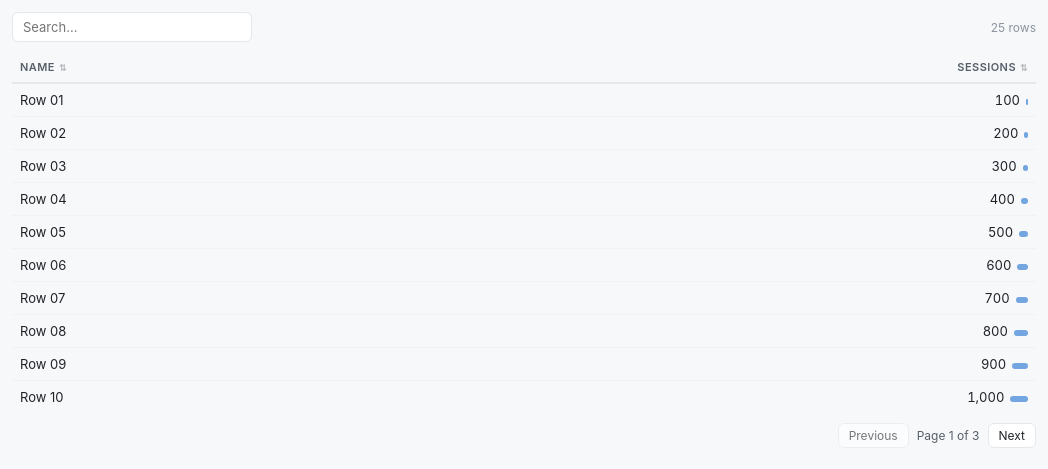
Test: DataTable › filters with search and resets to page 1
Click the button "Next". click: (1012, 436)
box: [988, 423, 1036, 448]
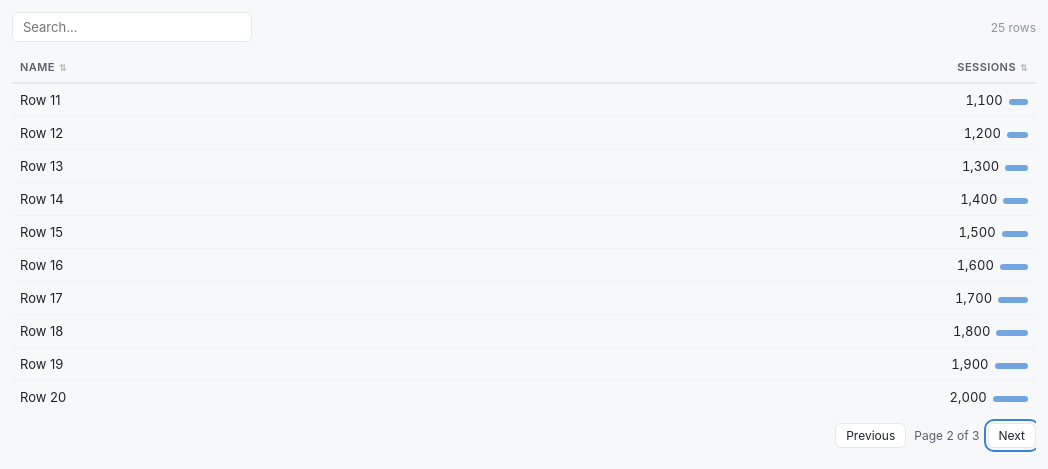
Type "row 2" into the search field. click: (132, 27)
box: [12, 12, 252, 42]
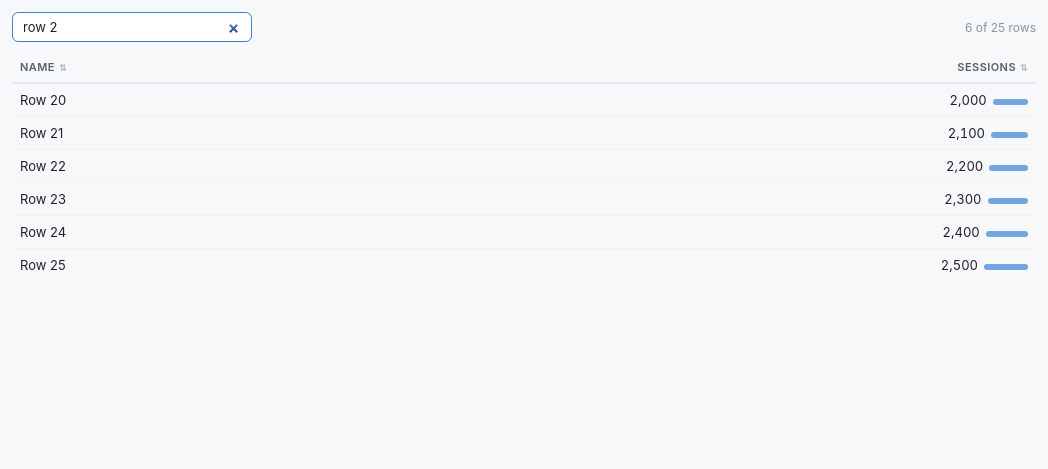
Result: the cell "Row 20" is shown at [12, 83, 400, 117]
Result: the text "6 of 25 rows" is shown at [965, 20, 1036, 34]
Result: the navigation bar is gone
